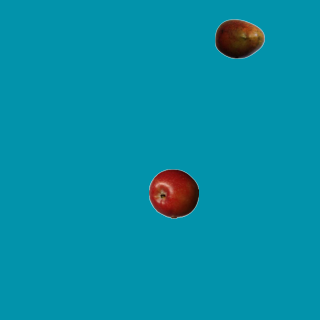Apple Braeburn: (148, 168, 198, 218)
Mango Red: (214, 13, 264, 63)
